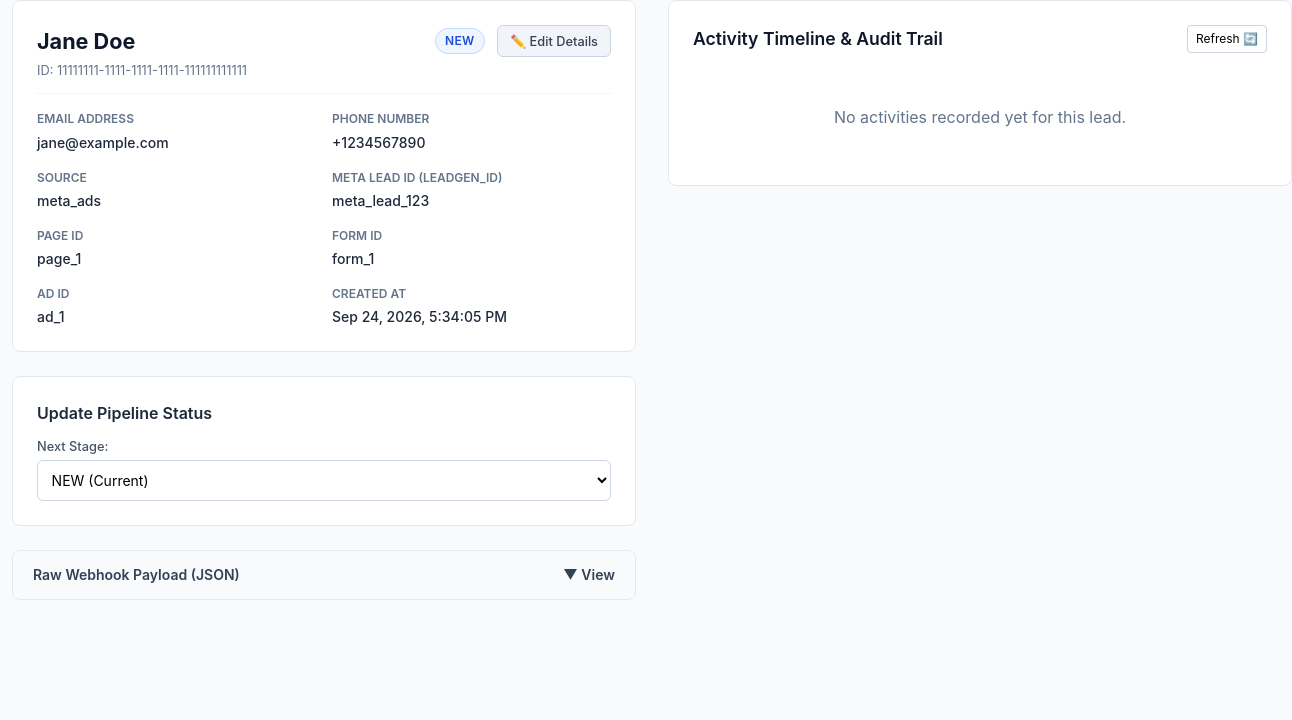
LeadDetail Component › toggles edit mode when clicking Edit Details button
Click the button "✏️ Edit Details": click(554, 41) [497,25,611,57]
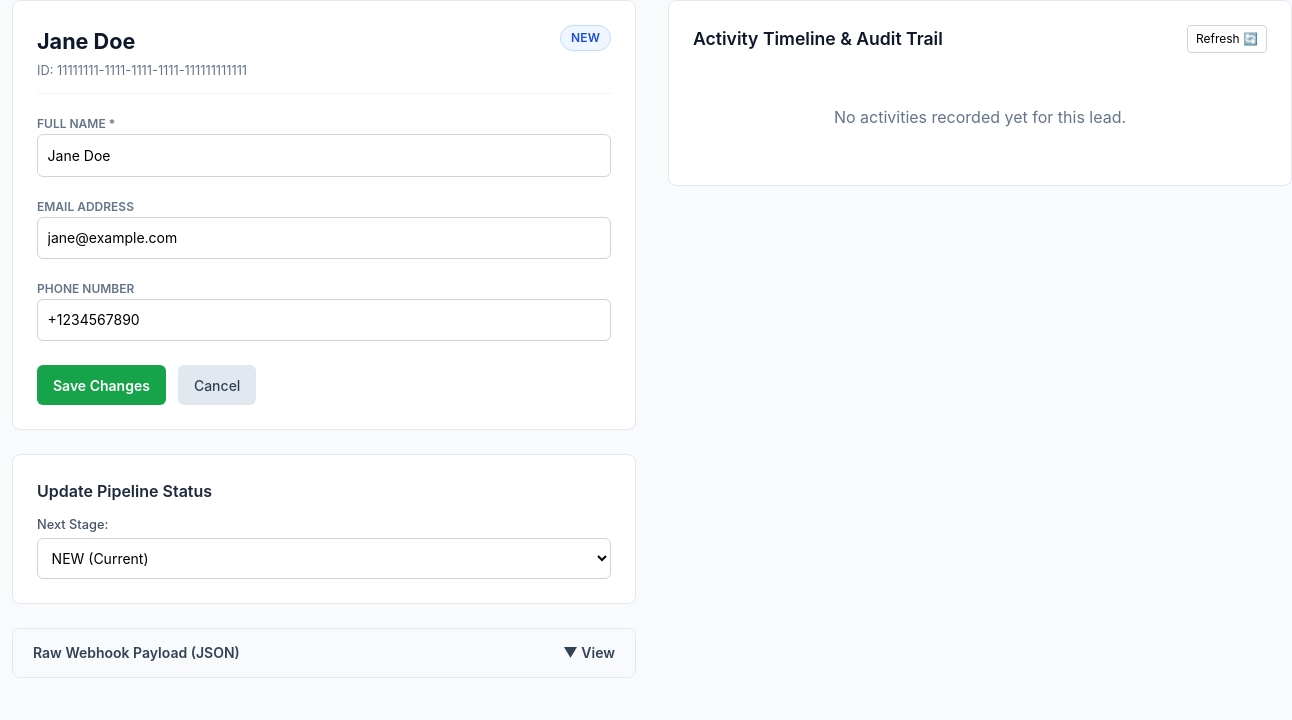
Result: the field showing "Jane Doe" below "Full Name *" is shown at [37,134,611,177]
Result: the field showing "jane@example.com" below "Email Address" is shown at [37,217,611,259]
Result: the field showing "+1234567890" below "Phone Number" is shown at [37,299,611,341]
